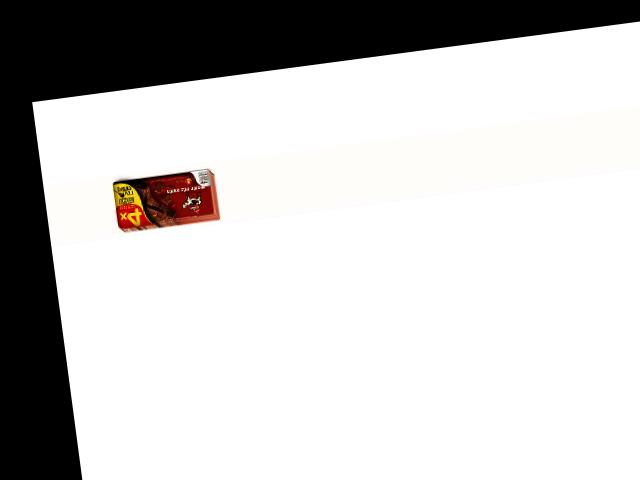chocolate: (110, 166, 218, 232)
